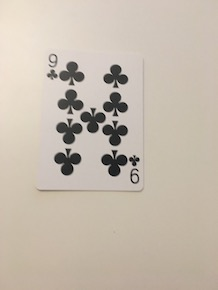NineOfClubs: (30, 43, 151, 194)
